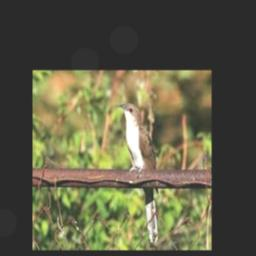Cuckoo: (118, 103, 157, 244)
